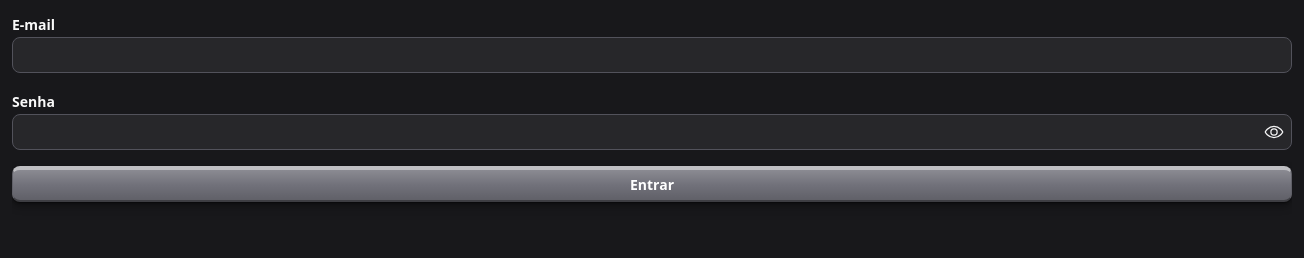
Test case: LoginForm › valida e-mail e senha antes de enviar
Type "nao-e-email" into the field labelled "E-mail". click: (652, 55)
box: [12,37,1292,73]
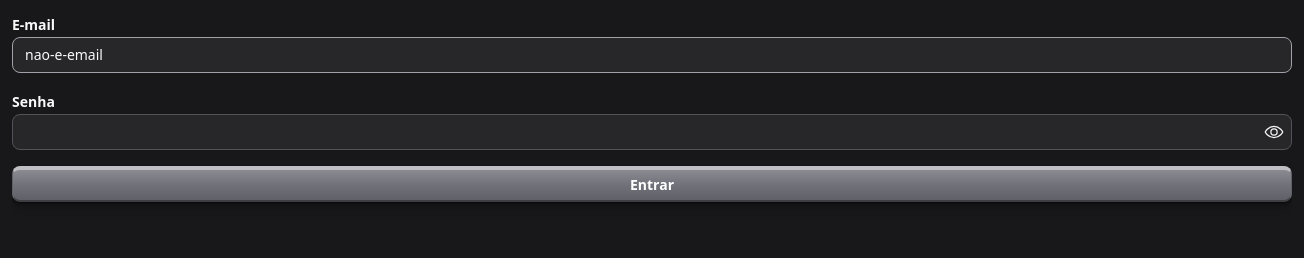
Click the button "Entrar". click: (652, 184)
box: [12,166,1292,202]
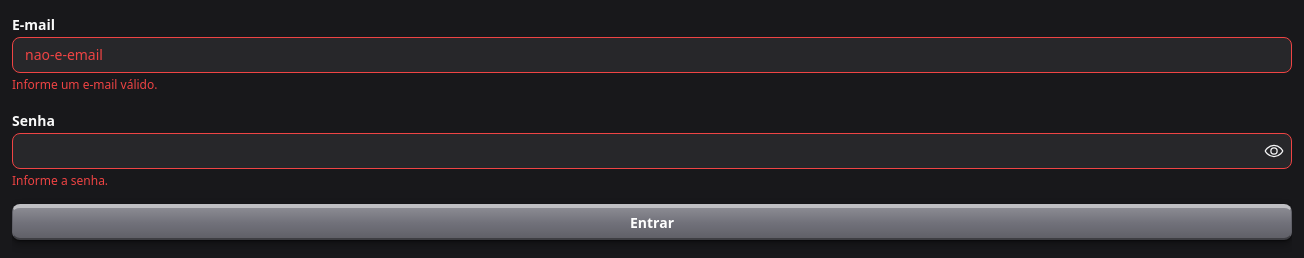
expect the text "Informe um e-mail válido." is shown: met, box [12,76,158,93]
expect the text "Informe a senha." is shown: met, box [12,172,108,189]
